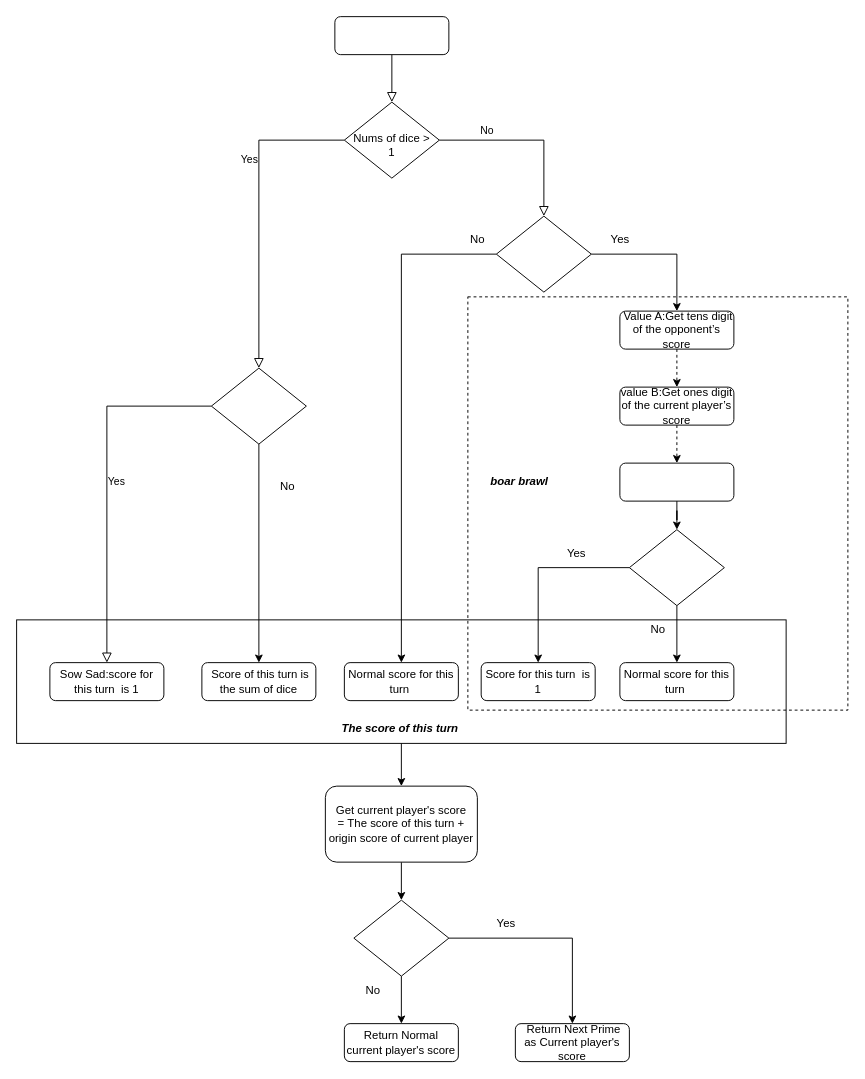
Image size: 865x1079. Some labels were removed from this diagram. Each missing label, with the centre of its shape:
Abs(A - B) == 0: [676,567]
Absolute difference between value A and value B: [676,481]
Nums of dice equals 0: [543,253]
One dice has a value of 1?: [258,405]
roll dice: [391,35]
Score is suss?: [401,937]
